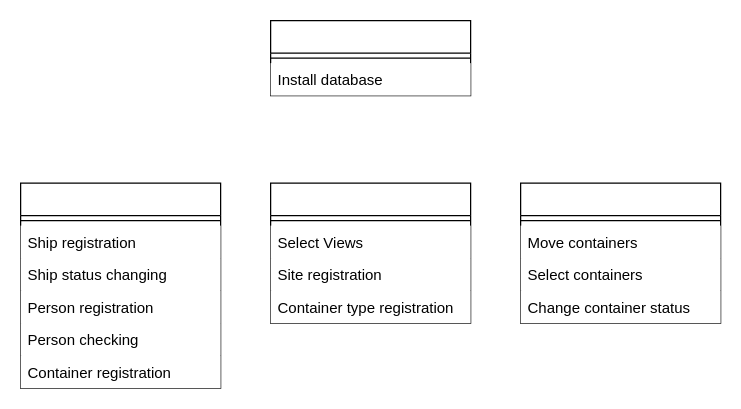
Some shapes in this 741 by 409 pixel diagram are drawn without their labels. Here are the shapes that lost their labels. From the top down, the box of each, then its label:
(269, 19, 471, 96): Port_admin
(269, 182, 471, 323): Port_manager
(519, 182, 721, 323): Site_manager
(19, 182, 221, 388): Ship_manager
